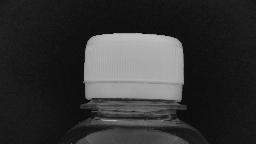Good Cap: (76, 31, 190, 114)
